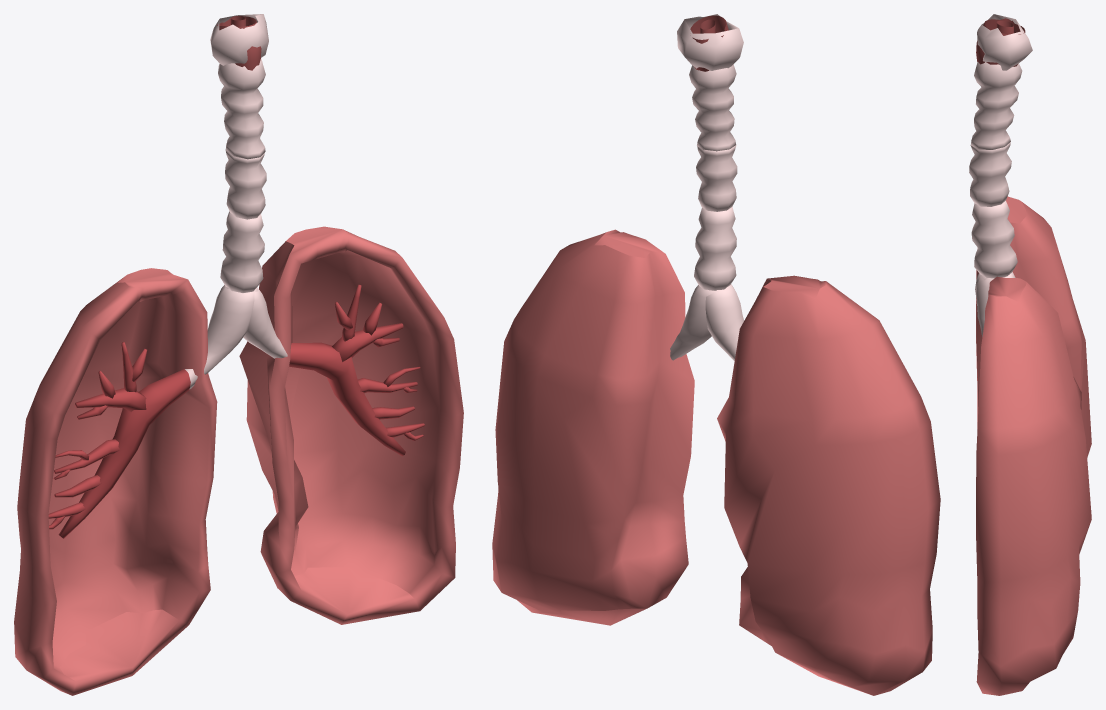
File: Lungs.fbx
3 renders of one model, left to right at view 1: azimuth 30°, elevation 25°; view 2: azimuth 150°, elevation 25°; view 3: azimuth 270°, elevation 25°, orthographic. The views are drawn at different scales.
Parts seen in each view (by area): view 1: Lungs.002, Lungs.001; view 2: Lungs.002, Lungs.001; view 3: Lungs.002, Lungs.001.
Boxes of the visible parts, left/top/right/bottom form: Lungs.002: left=14, top=226, right=463, bottom=695; Lungs.001: left=48, top=14, right=424, bottom=538; Lungs.002: left=492, top=229, right=940, bottom=695; Lungs.001: left=670, top=14, right=743, bottom=360; Lungs.002: left=976, top=196, right=1091, bottom=695; Lungs.001: left=969, top=14, right=1032, bottom=336.
Bounding box in the file's own units: 473 × 665 × 124.
